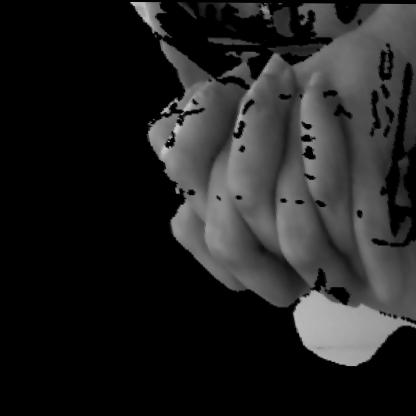prayer: (112, 27, 415, 354)
